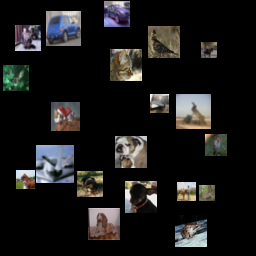airplane: (36, 145, 74, 183), (150, 94, 169, 113)
automobile: (46, 11, 81, 46), (104, 1, 130, 27)
bird: (148, 26, 180, 58), (205, 134, 227, 156), (199, 185, 215, 201)
cat: (110, 49, 142, 81), (51, 102, 80, 131), (15, 25, 41, 51)
deer: (3, 65, 29, 91)
dog: (125, 181, 157, 213), (88, 208, 120, 240), (115, 136, 147, 168), (77, 171, 103, 197)
frog: (175, 215, 207, 247)
